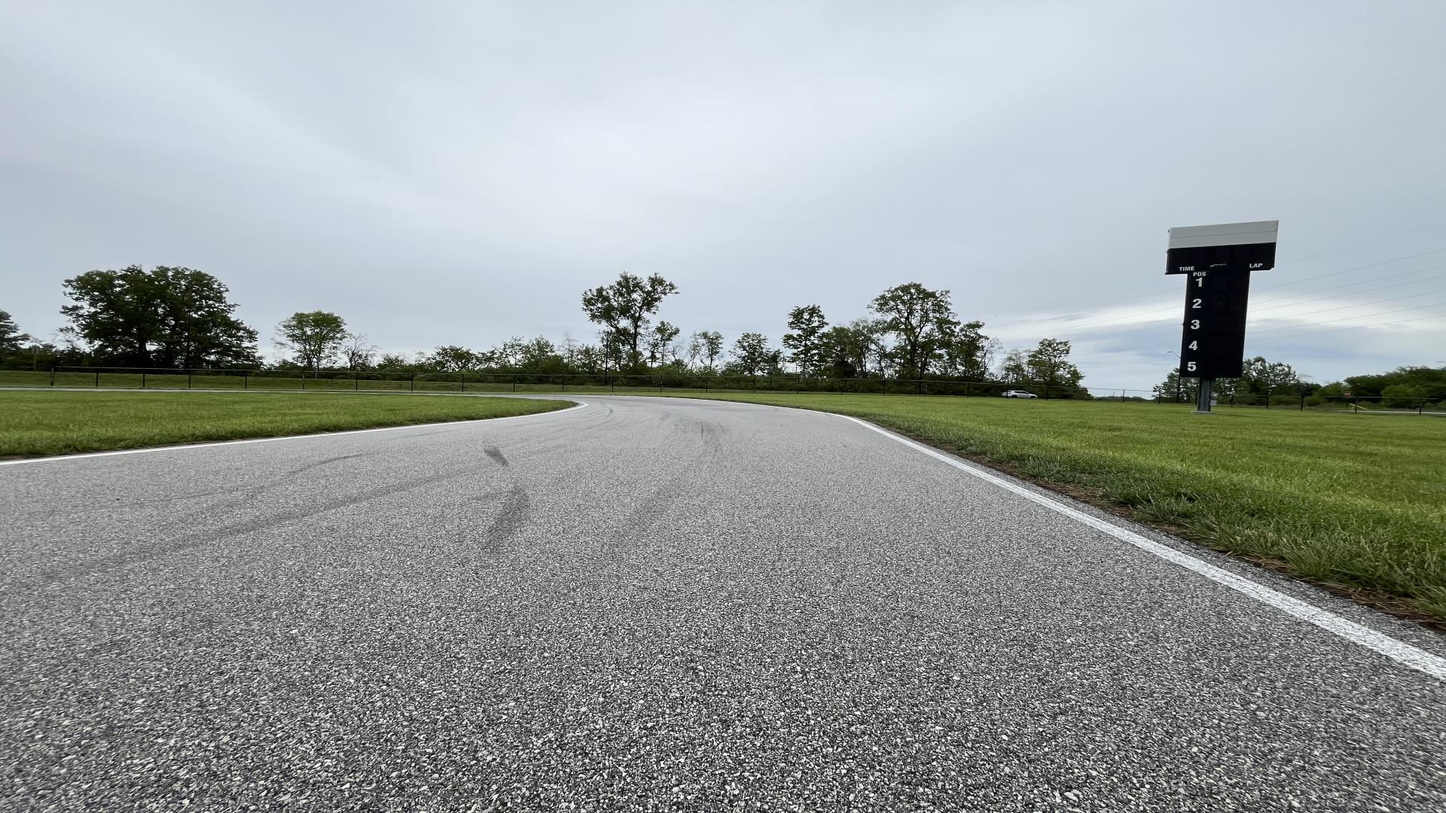white-line: (665, 397, 1445, 679), (0, 399, 587, 465)
